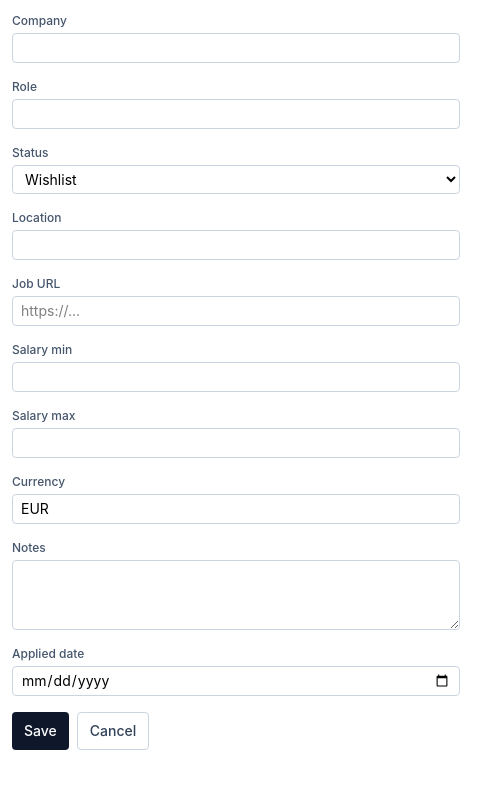
it: ApplicationForm › blocks submit and shows errors when required fields are empty
Click the button "Save" at (40, 731), box [12, 712, 69, 750]
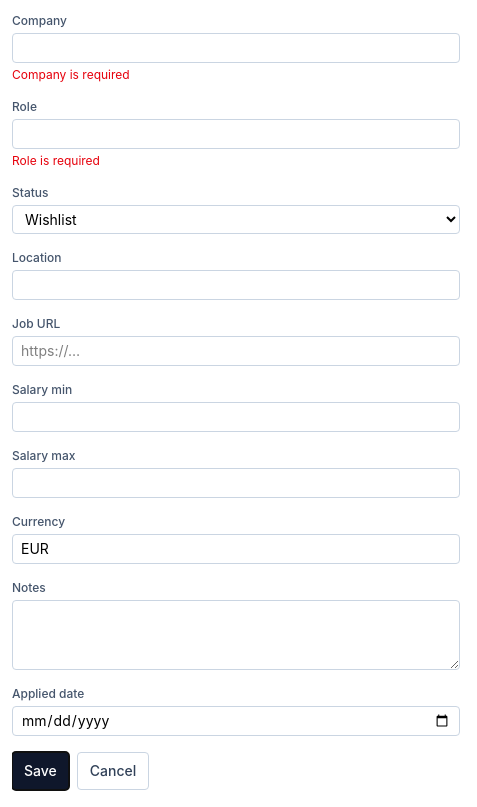
Expected: the text "Company is required" is shown, [12, 67, 130, 82]
Expected: the text "Role is required" is shown, [12, 153, 100, 168]
